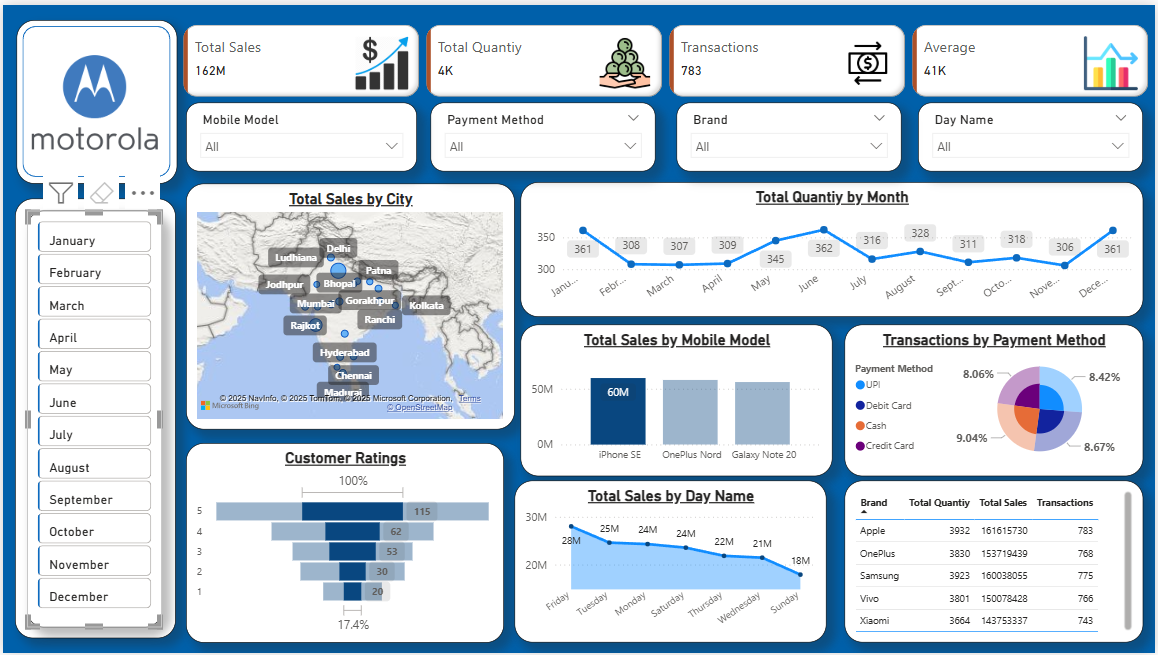

This screenshot's page, from the dashboard's own definition file:
{"tool":"powerbi","page":{"name":"Page 1","canvas":[1280,720],"ordinal":0},"visuals":[{"type":"shape","box":[15,16.7,178.3,181.7],"z":0},{"type":"image","box":[26.7,31.7,150,153.3],"z":1000},{"type":"shape","box":[13.3,215,178.3,488.3],"z":2000},{"type":"advancedSlicerVisual","fields":{"Values":["Sales data.date.Variation.Date Hierarchy.Month"]},"box":[26.7,228.3,150,463.3],"z":3000},{"type":"cardVisual","fields":{"Data":["Sales data.Total Sales","Sales data.Total Quantiy","Sales data.Total Transactions","Sales data.Average"]},"box":[195,16.7,1085,90],"z":4000},{"type":"map","fields":{"Category":["Sales data.City"],"Size":["Sales data.Total Sales"]},"box":[203.3,198.3,365,273.3],"z":5000},{"type":"lineChart","fields":{"Category":["Sales data.date.Variation.Date Hierarchy.Month","Sales data.date.Variation.Date Hierarchy.Day"],"Y":["Sales data.Total Quantiy"]},"box":[575,196.7,691.7,150],"z":5001},{"type":"clusteredColumnChart","fields":{"Category":["Sales data.Mobile Model"],"Y":["Sales data.Total Sales"]},"box":[575,355,346.7,168.3],"z":5002},{"type":"pieChart","fields":{"Y":["Sales data.Total Transactions"],"Category":["Sales data.Payment Method"]},"box":[935,355,331.7,168.3],"z":5003},{"type":"funnel","title":"Customer Ratings","fields":{"Category":["Sales data.Customer Ratings"],"Y":["CountNonNull(Sales data.Customer Ratings)"]},"box":[203.3,486.7,353.3,221.7],"z":5004},{"type":"areaChart","fields":{"Category":["Sales data.Day Name.1"],"Y":["Sales data.Total Sales"]},"box":[568.3,528.3,346.7,180],"z":5005},{"type":"tableEx","fields":{"Values":["Sales data.Brand","Sales data.Total Quantiy","Sales data.Total Sales","Sales data.Transactions"]},"box":[935,528.3,331.7,180],"z":5006},{"type":"slicer","fields":{"Values":["Sales data.Day Name"]},"box":[1016.7,108.3,250,76.7],"z":5007},{"type":"slicer","fields":{"Values":["Sales data.Brand"]},"box":[748.3,108.3,250,76.7],"z":5008},{"type":"slicer","fields":{"Values":["Sales data.Payment Method"]},"box":[475,108.3,250,76.7],"z":5009},{"type":"slicer","fields":{"Values":["Sales data.Mobile Model"]},"box":[203.3,108.3,256.7,76.7],"z":5010}]}

Visuals, with their boxes in screenshot pixels (x1, y1, x2, y2), scaled from the page's 1280x720 canvas onto the 1158x655 screenshot:
shape: left=14, top=15, right=175, bottom=180
image: left=24, top=29, right=160, bottom=168
shape: left=12, top=196, right=173, bottom=640
advancedSlicerVisual - Sales data.date.Variation.Date Hierarchy.Month: left=24, top=208, right=160, bottom=629
cardVisual - Sales data.Total Sales x Sales data.Total Quantiy: left=176, top=15, right=1157, bottom=97
map - Sales data.City x Sales data.Total Sales: left=184, top=180, right=514, bottom=429
lineChart - Sales data.date.Variation.Date Hierarchy.Month x Sales data.date.Variation.Date Hierarchy.Day: left=520, top=179, right=1146, bottom=315
clusteredColumnChart - Sales data.Mobile Model x Sales data.Total Sales: left=520, top=323, right=834, bottom=476
pieChart - Sales data.Total Transactions x Sales data.Payment Method: left=846, top=323, right=1146, bottom=476
"Customer Ratings" funnel: left=184, top=443, right=504, bottom=644
areaChart - Sales data.Day Name.1 x Sales data.Total Sales: left=514, top=481, right=828, bottom=644
tableEx - Sales data.Brand x Sales data.Total Quantiy: left=846, top=481, right=1146, bottom=644
slicer - Sales data.Day Name: left=920, top=99, right=1146, bottom=168
slicer - Sales data.Brand: left=677, top=99, right=903, bottom=168
slicer - Sales data.Payment Method: left=430, top=99, right=656, bottom=168
slicer - Sales data.Mobile Model: left=184, top=99, right=416, bottom=168
